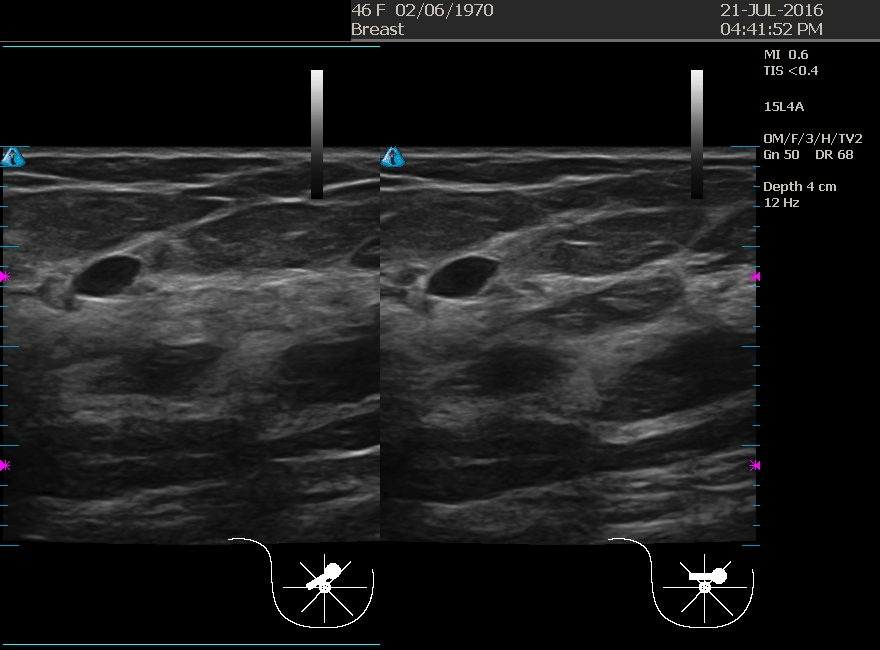BIRADS_2: (40, 199, 241, 399), (393, 175, 593, 375)
